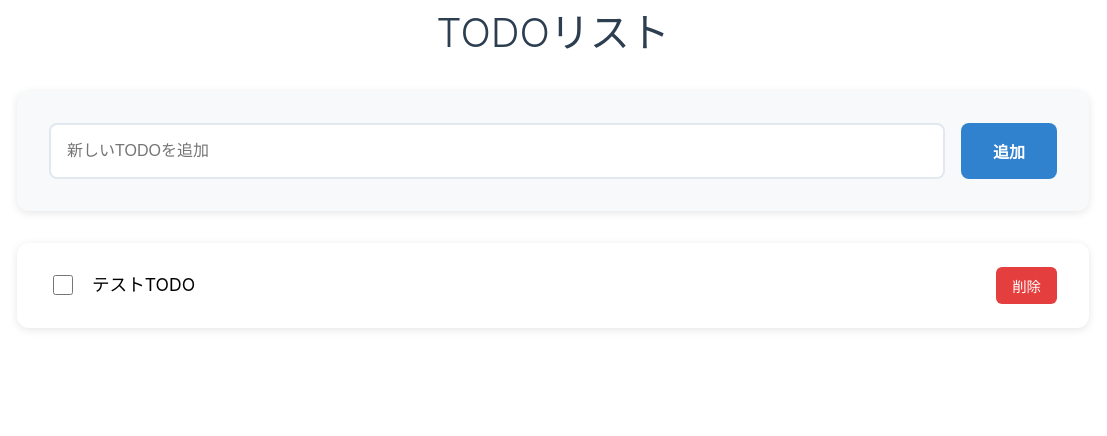
Test: App.vue › TODO更新機能 › 更新エラー時にエラーメッセージが表示される
Click the checkbox with class "todo-checkbox" at (63, 286), box [53,276,73,296]
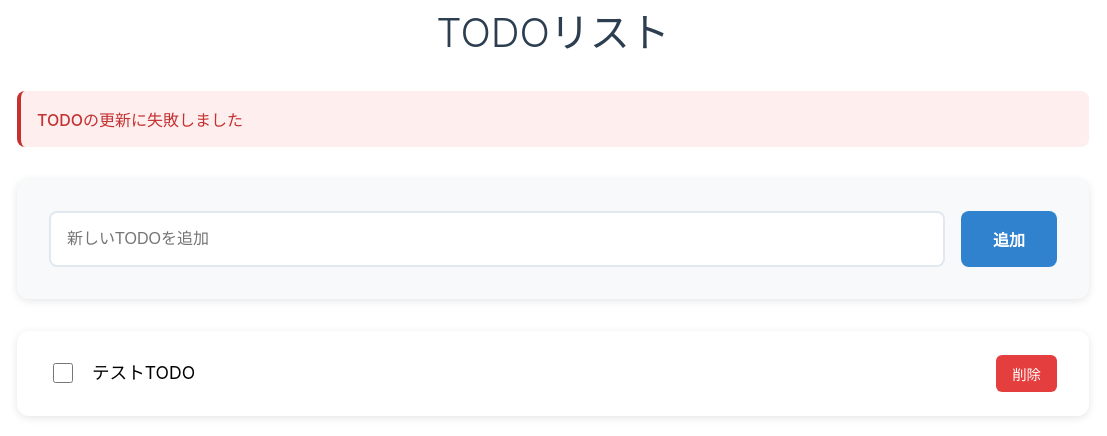
Now the text with class "error-message" reads "TODOの更新に失敗しました", box [37,110,243,130]
